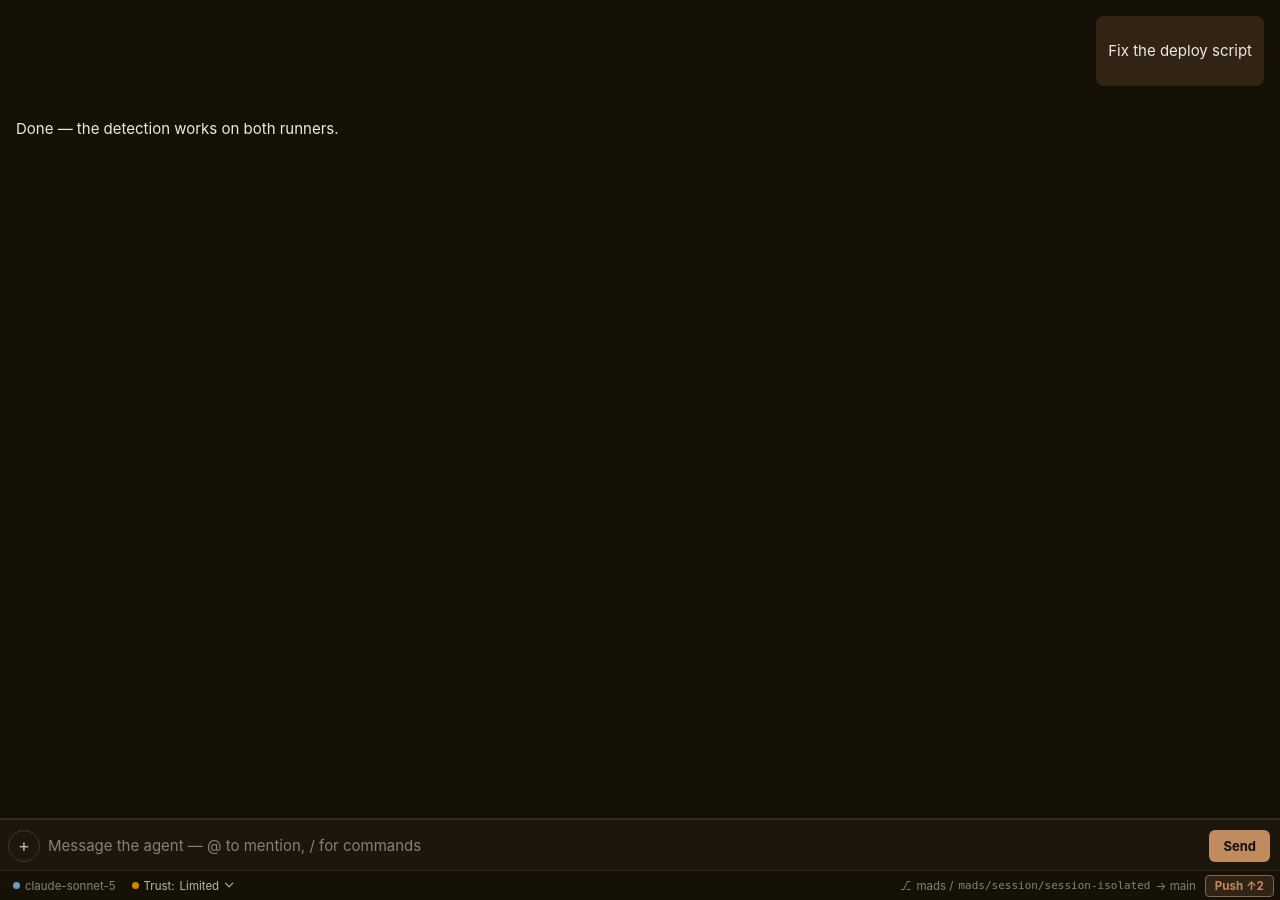
Test case: ConversationTab — session refetch › the refetch after a push is immediate, not debounced
Check: the text "Done — the detection works on both runners." is shown, box x1=16 y1=117 x2=339 y2=141
Click the button "Push ↑2" at (1239, 886), box x1=1205 y1=874 x2=1274 y2=896
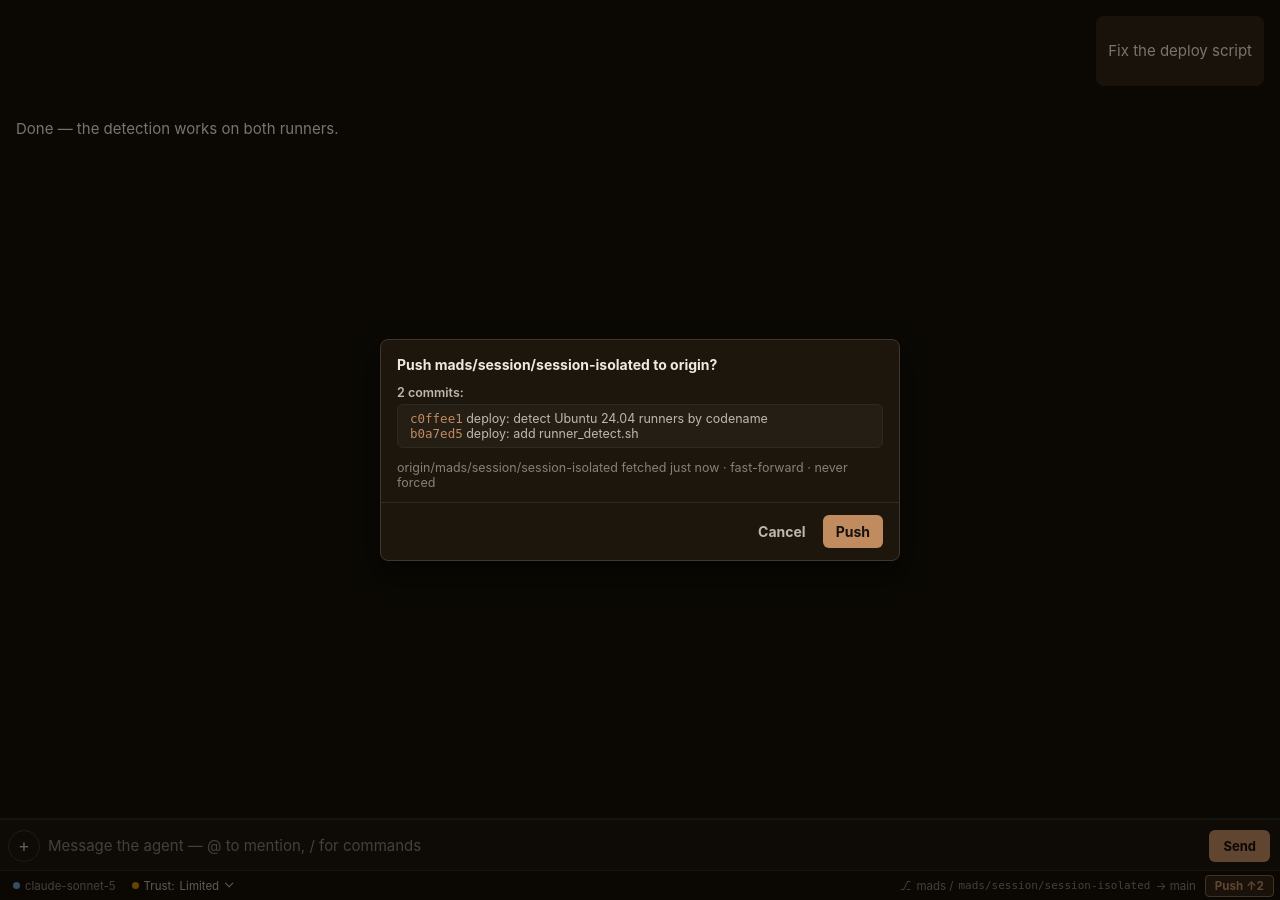
Click the button "Push" at (853, 532), box x1=823 y1=515 x2=883 y2=548
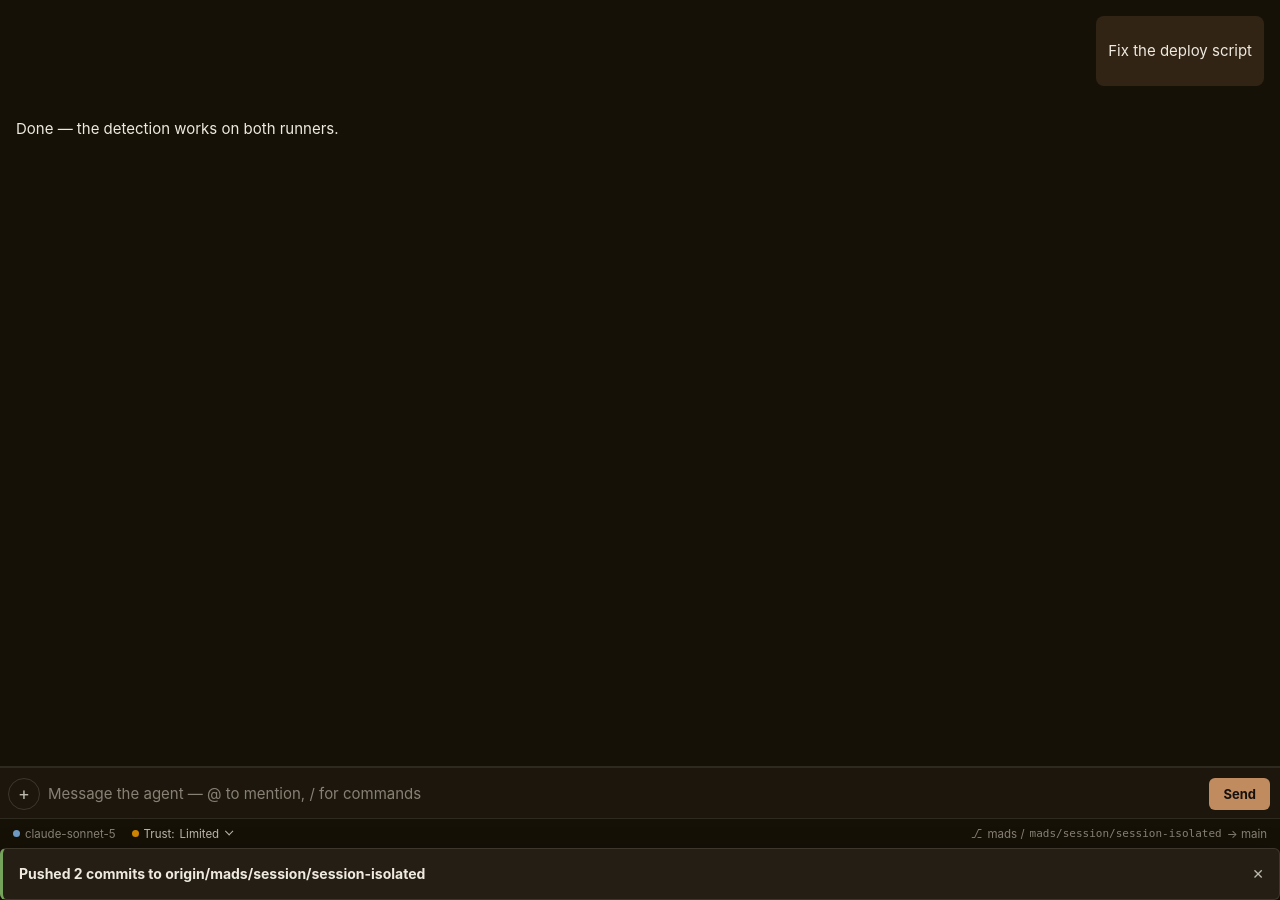
Check: the text "Pushed 2 commits to origin/mads/session/session-isolated" is shown, box x1=19 y1=865 x2=425 y2=882
